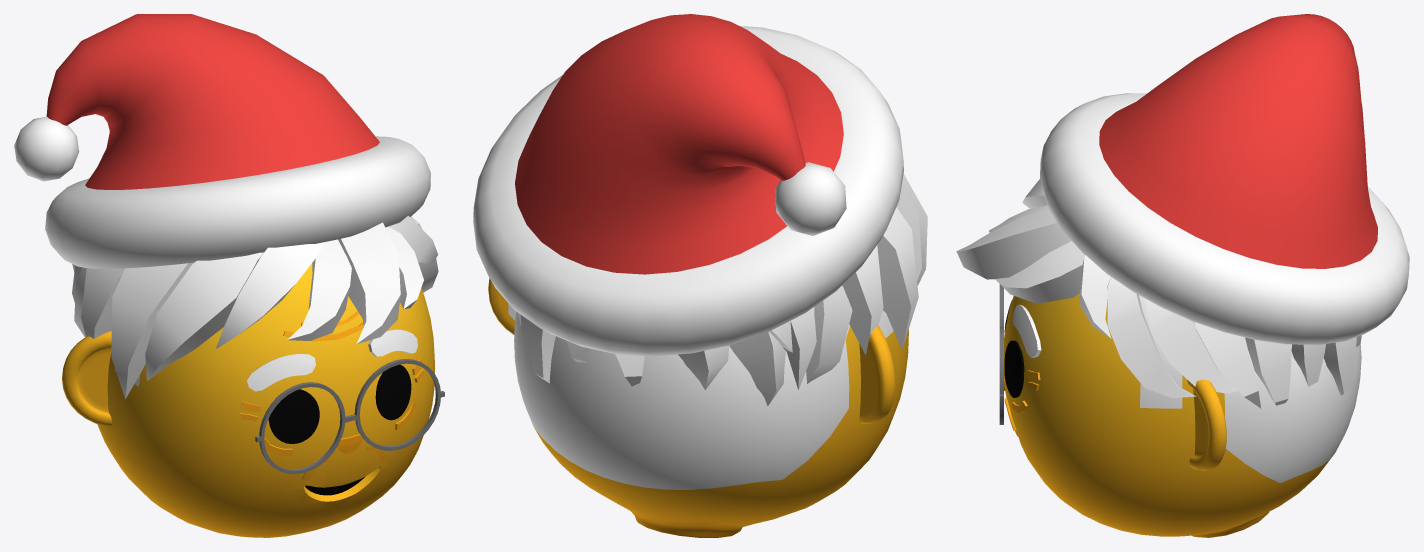
File: mx_claus.fbx
3 renders of one model, left to right at view 1: azimuth 30°, elevation 25°; view 2: azimuth 150°, elevation 25°; view 3: azimuth 270°, elevation 25°, orthographic. The views are drawn at different scales.
Parts seen in each view (by area): view 1: Circle.953, Roundcube.195, Cube.2306, Circle.945, Cylinder.173, Circle.951, Circle.947, Circle.949; view 2: Circle.953, Roundcube.195, Cube.2306, Cylinder.173; view 3: Circle.953, Roundcube.195, Cube.2306, Cylinder.173, Circle.945, Circle.947, Circle.951.
Part boxes in pixels (<box>): Circle.953: <box>14,14,430,268</box>; Roundcube.195: <box>97,263,435,537</box>; Cube.2306: <box>72,216,438,398</box>; Circle.945: <box>268,364,411,443</box>; Cylinder.173: <box>62,331,112,426</box>; Circle.951: <box>255,359,444,474</box>; Circle.947: <box>247,329,417,391</box>; Circle.949: <box>240,358,424,480</box>; Circle.953: <box>473,14,903,356</box>; Roundcube.195: <box>514,310,908,537</box>; Cube.2306: <box>508,174,927,405</box>; Cylinder.173: <box>488,278,895,424</box>; Circle.953: <box>1040,14,1409,344</box>; Roundcube.195: <box>1004,293,1361,537</box>; Cube.2306: <box>956,179,1361,408</box>; Cylinder.173: <box>1187,379,1226,470</box>; Circle.945: <box>1004,300,1024,397</box>; Circle.947: <box>1012,304,1041,357</box>; Circle.951: <box>999,284,1003,424</box>.
Size of the model in its own units: 176 by 223 by 192.
2 materials, 2 textured.
